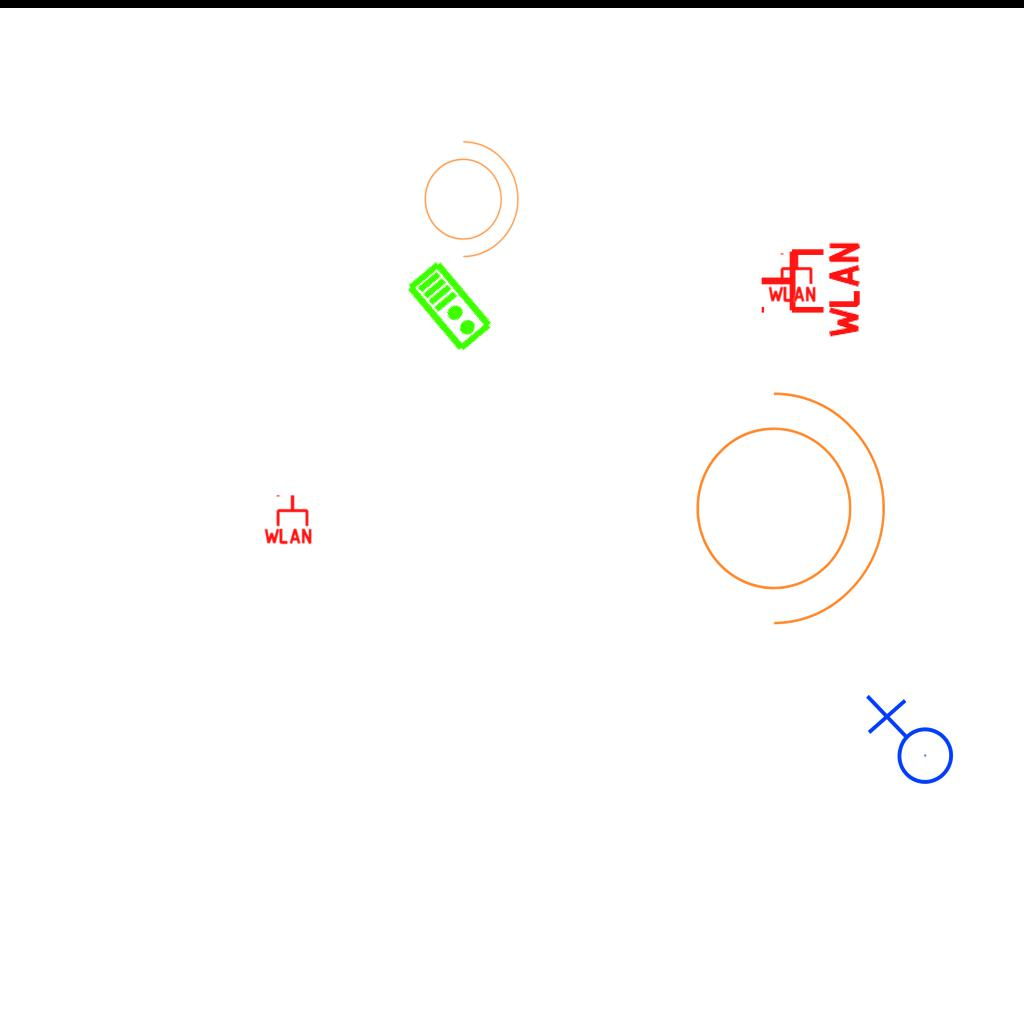Elektroanschluss_allgemein_230V_Geraeteanschlussdose_230V: (861, 694, 955, 793)
Gegensprechanlage_mit_Video: (404, 257, 497, 355)
Scheinwerfer_fuer_Alarmbeleuchtung: (671, 370, 896, 634), (412, 130, 524, 262)
WLAN: (757, 238, 862, 342), (262, 493, 314, 545), (766, 251, 818, 303)
